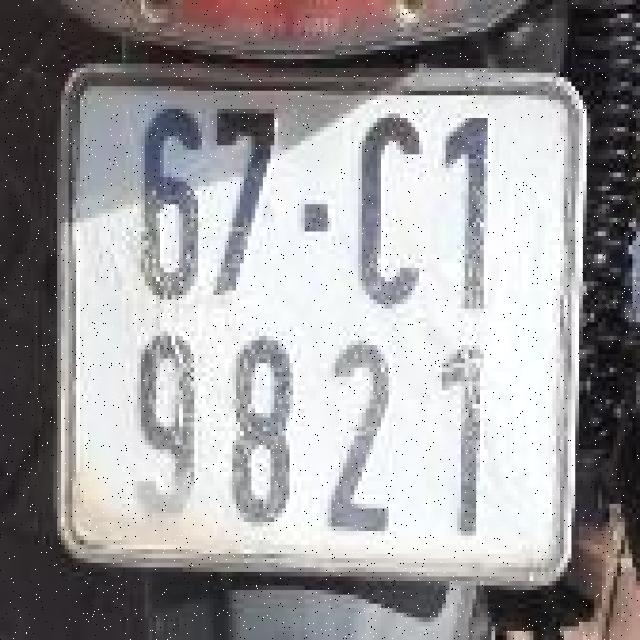1: (417, 311, 516, 551), (432, 102, 501, 343)
2: (310, 329, 410, 547)
6: (128, 84, 215, 315)
7: (200, 89, 280, 320)
8: (217, 324, 297, 538)
9: (118, 315, 206, 538)
C: (345, 102, 425, 316)
